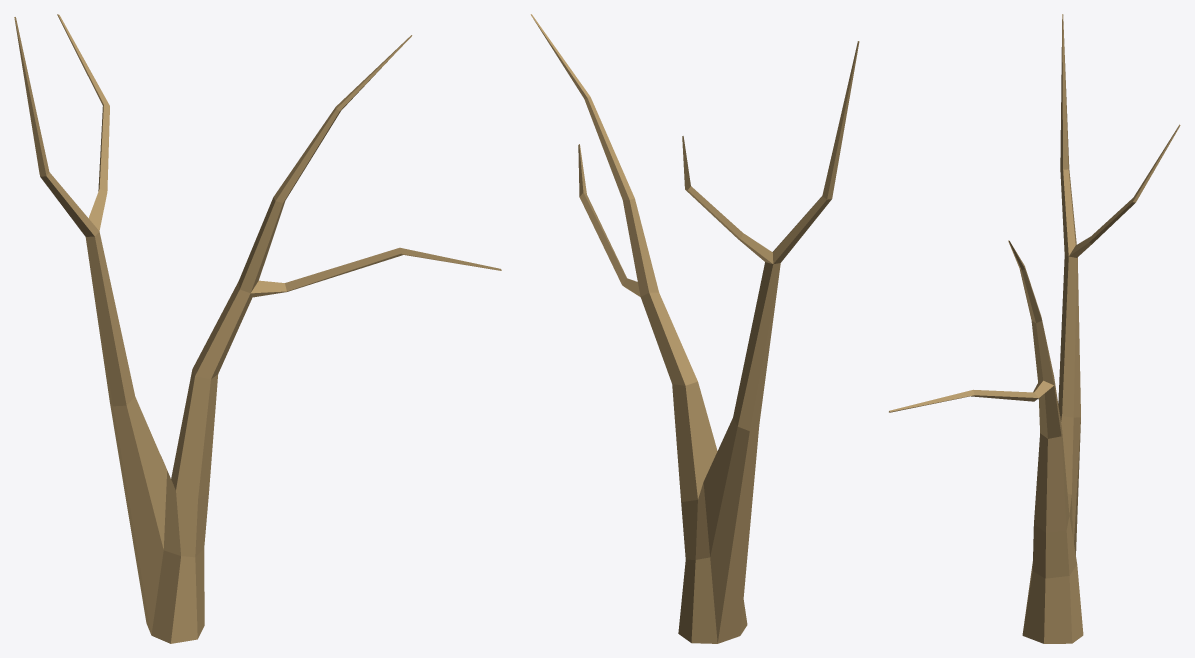
The model's file is Apple_Tree_NoLeaves_m_08_LOD.fbx.
The picture shows the model from 3 angles, left to right: view 1: azimuth 30°, elevation 25°; view 2: azimuth 150°, elevation 25°; view 3: azimuth 270°, elevation 25°; orthographic projection. The views are drawn at different scales.
Visible parts, largest first — view 1: Apple_Tree_NoLeaves_m_08_LOD0; view 2: Apple_Tree_NoLeaves_m_08_LOD0; view 3: Apple_Tree_NoLeaves_m_08_LOD0.
Boxes of the visible parts, x1,y1,x2,y2 form: Apple_Tree_NoLeaves_m_08_LOD0: [14, 14, 501, 643]; Apple_Tree_NoLeaves_m_08_LOD0: [530, 14, 859, 643]; Apple_Tree_NoLeaves_m_08_LOD0: [889, 14, 1180, 643].
Size of what is drawn, in the model's own units: 418 by 665 by 317.
